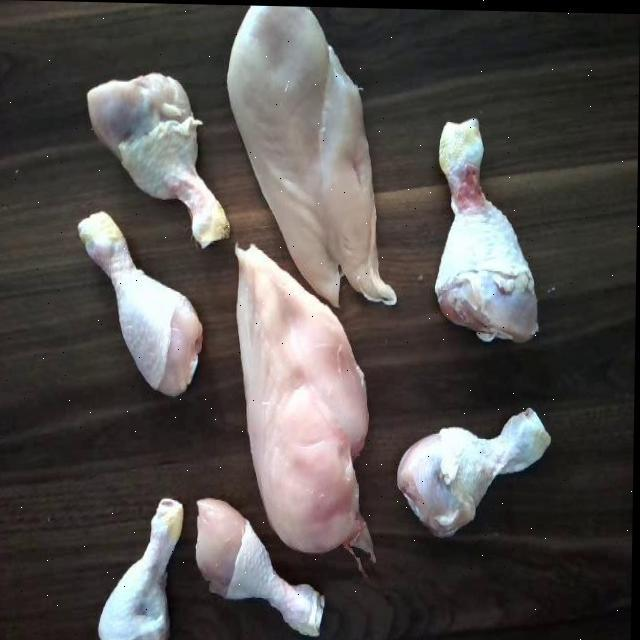breast: (228, 5, 390, 294), (236, 249, 383, 547)
leg: (428, 114, 548, 346), (77, 213, 209, 399), (80, 78, 230, 240), (396, 392, 552, 532), (190, 493, 336, 640), (87, 486, 186, 640)
